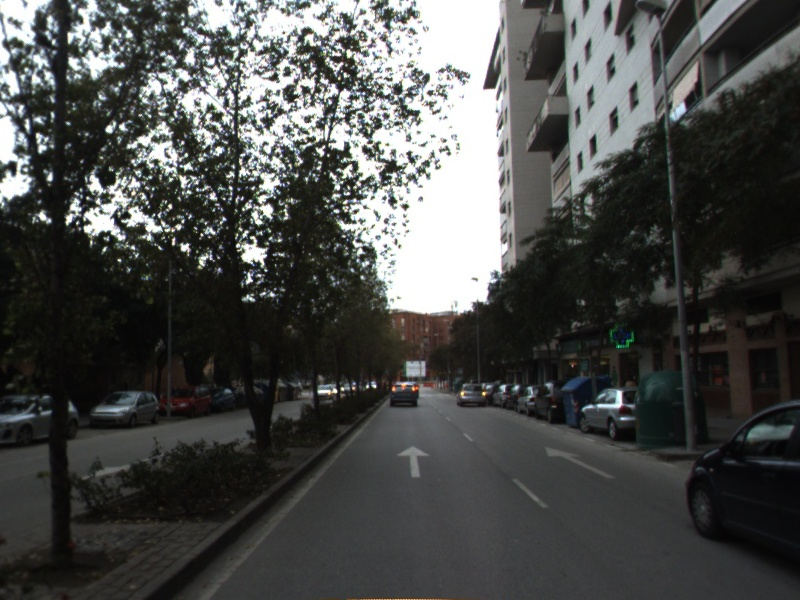STRAIGHT: (542, 444, 619, 480), (394, 442, 434, 479)
